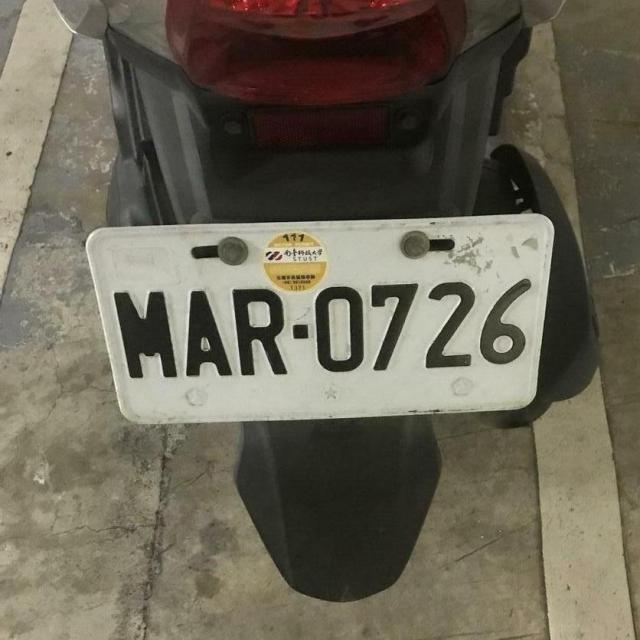W: (86, 207, 560, 434)
